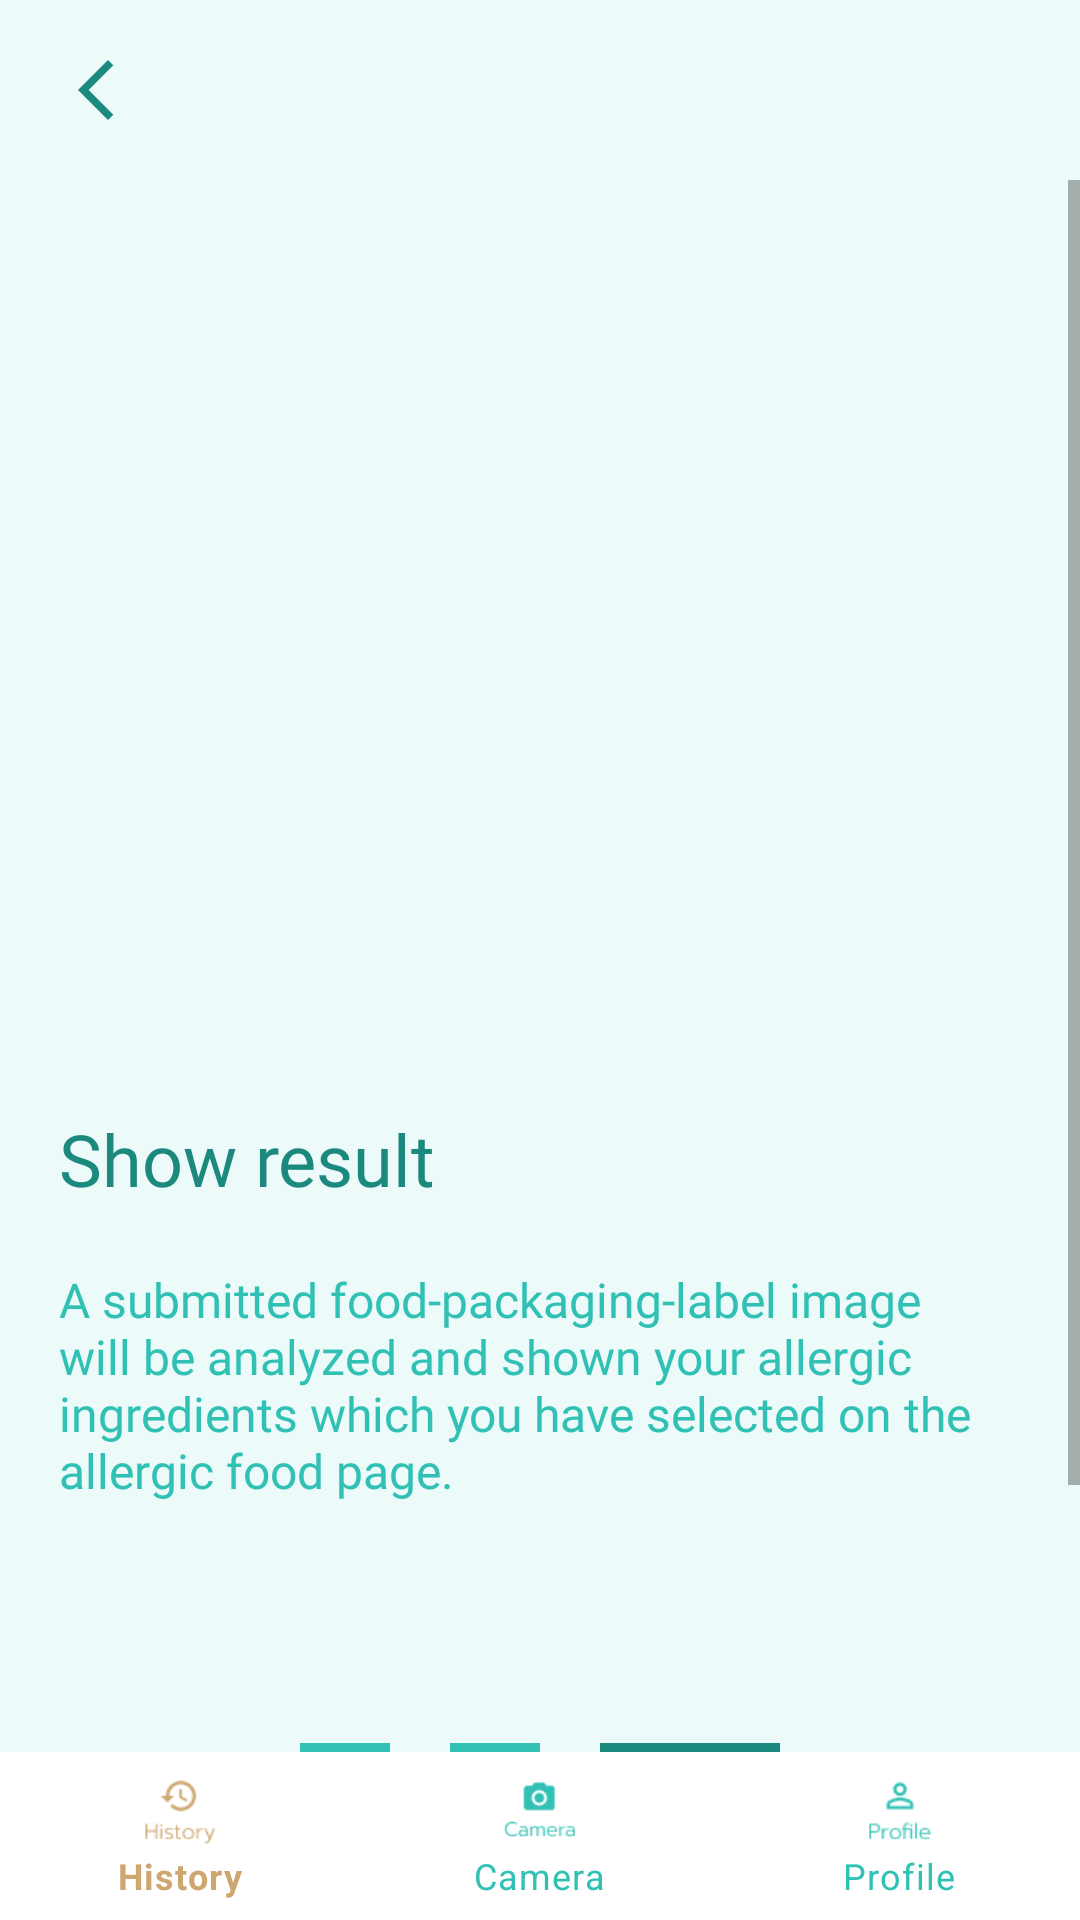

Icon bounding boxes for this 1080w x 1920h phone screenshot, format (x1, y1, x2, y2):
arrow: (78, 60, 113, 120)
